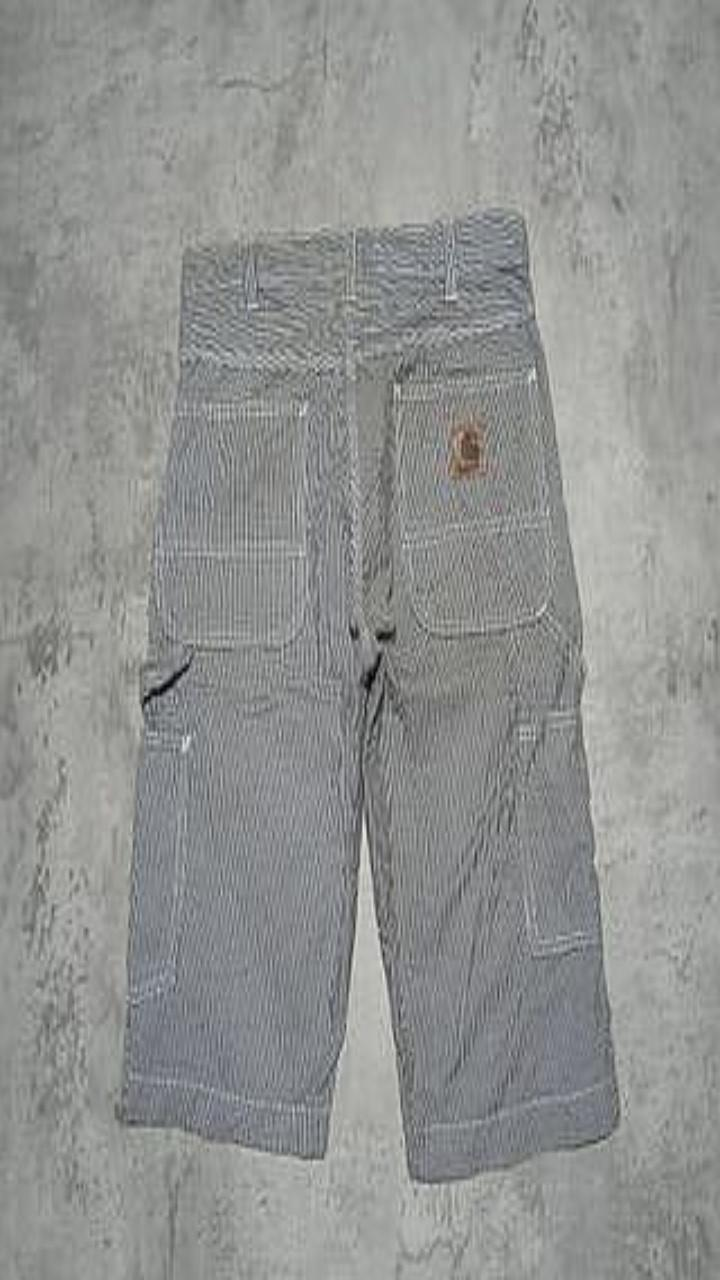Shorts: (119, 207, 619, 1181)
